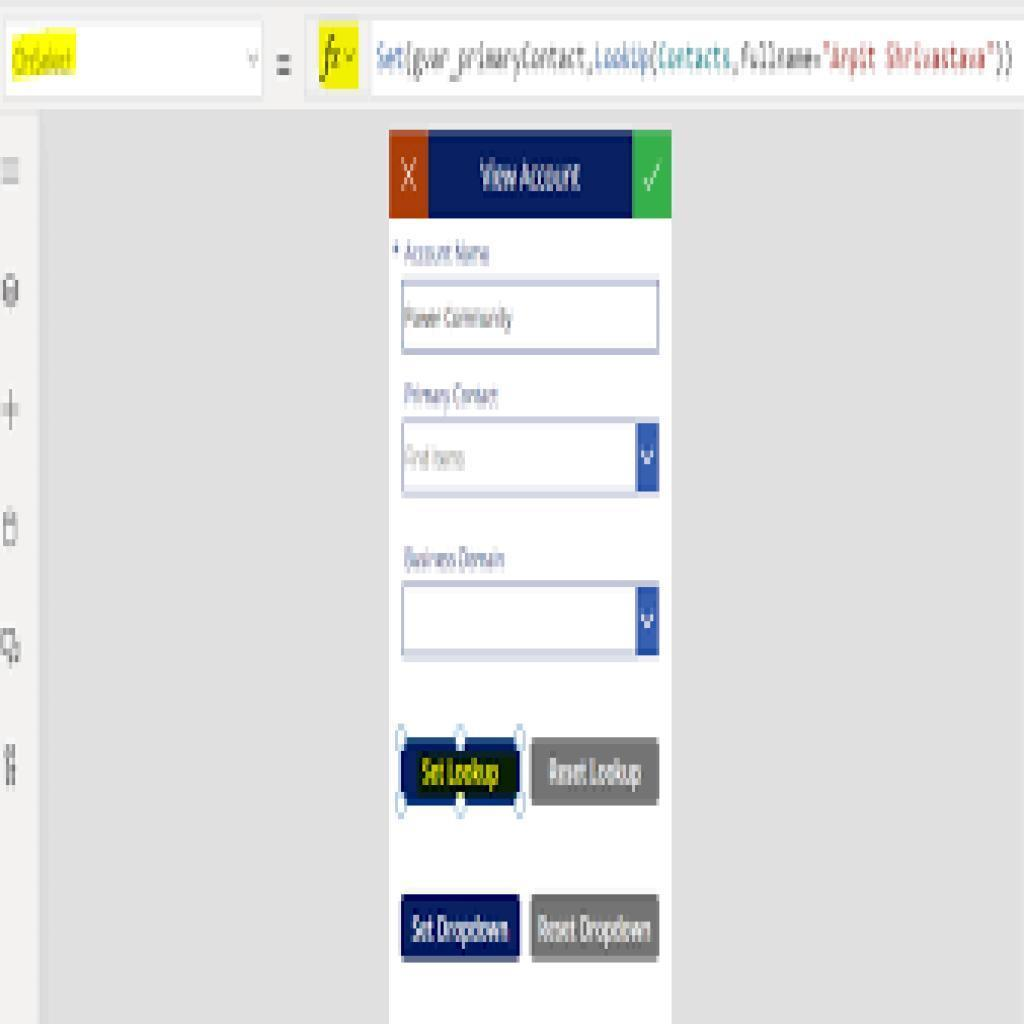button: (531, 895, 661, 964), (401, 895, 521, 966), (535, 738, 660, 806), (404, 740, 520, 807)
dropdown: (402, 421, 661, 499), (9, 24, 265, 101), (403, 585, 658, 659)
input: (375, 18, 1024, 95), (402, 280, 659, 353)
label: (404, 538, 513, 578), (392, 235, 491, 276), (405, 381, 508, 416)
